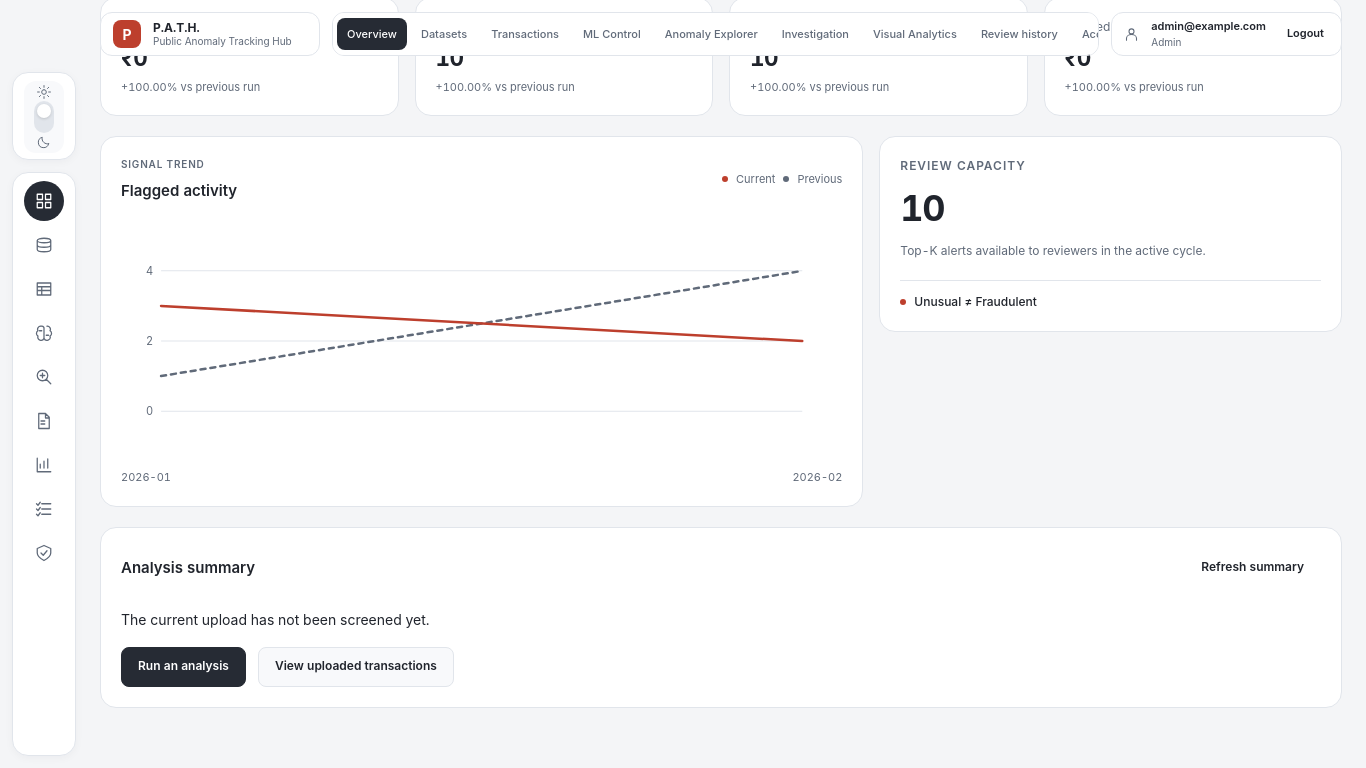
Scenario: guided analysis and human review › offers model execution for an uploaded but unprocessed dataset
The width and height of the screenshot is (1366, 768).
(page scrolled)
Click the link "Run an analysis". click: (184, 667)
box: [121,647,246,687]
(page scrolled)
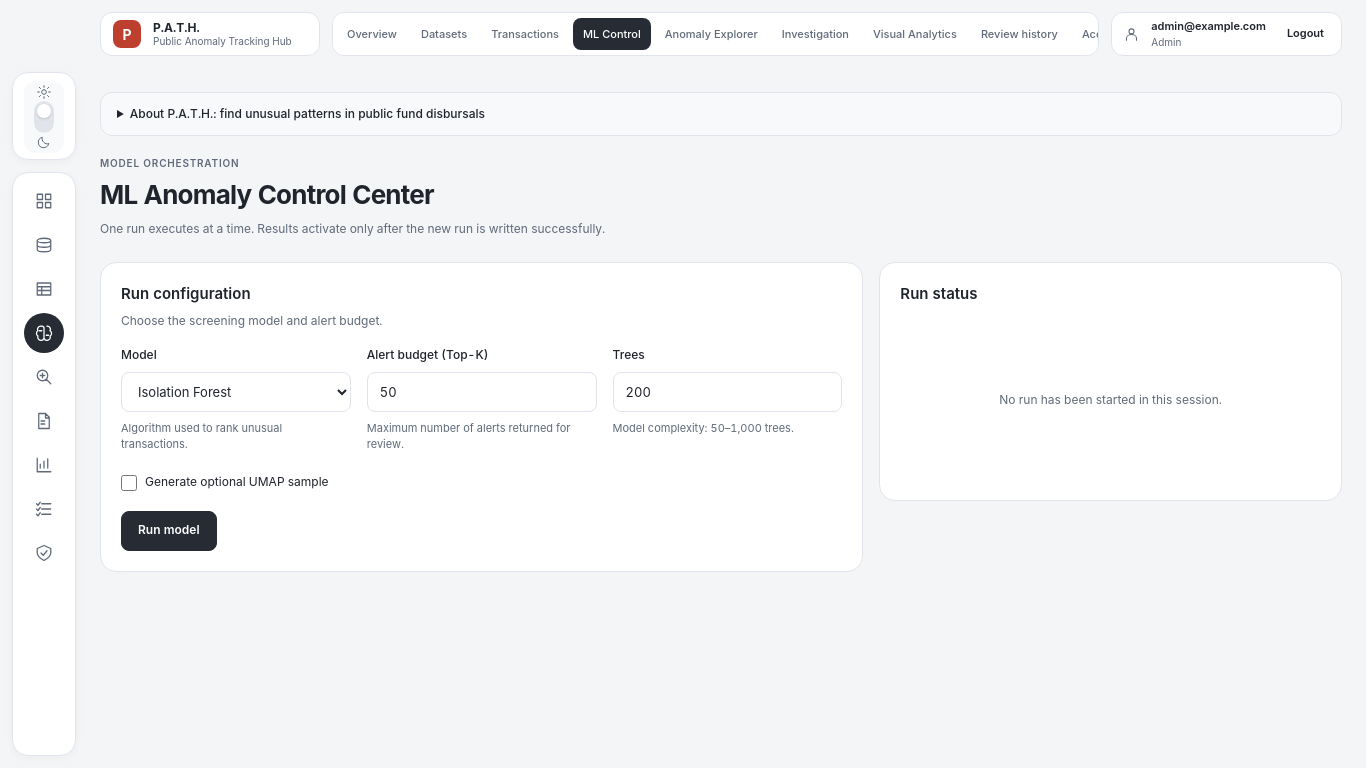
Expected: the heading "ML Anomaly Control Center" is shown, [100,179,434,210]
